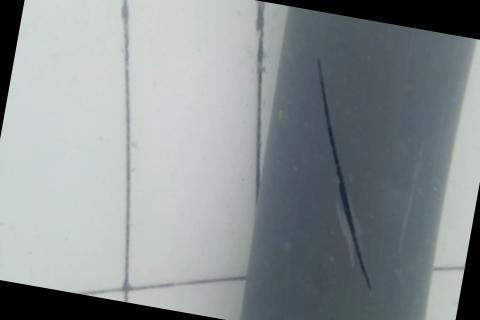keretakan: (279, 58, 411, 295)
